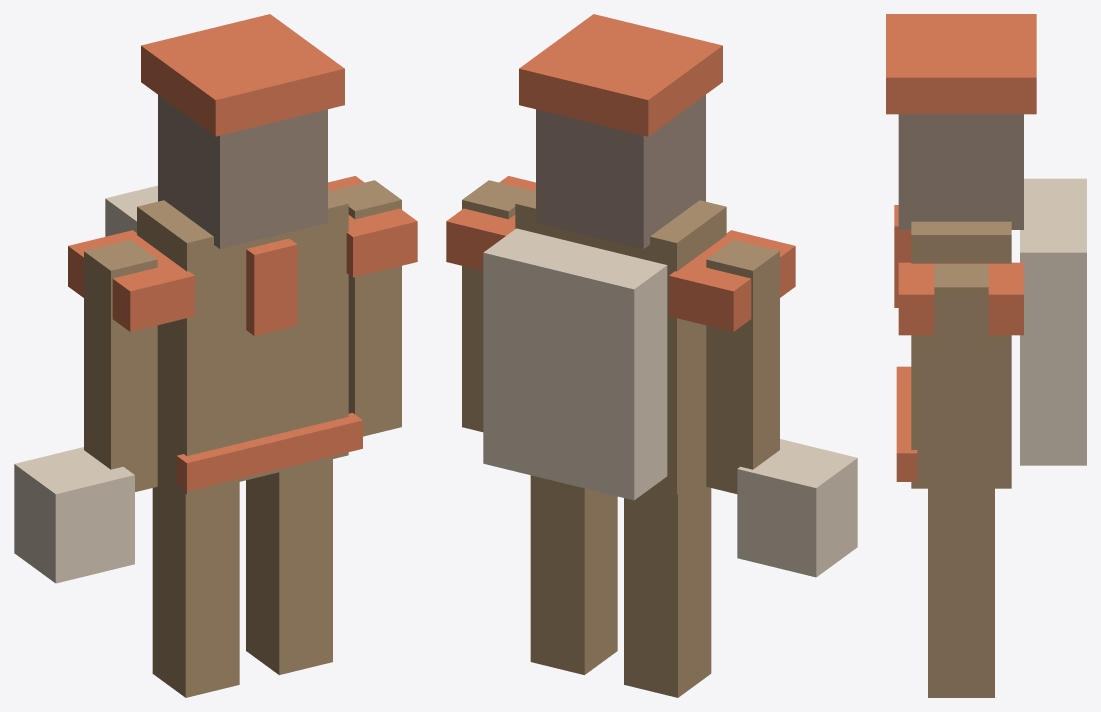
Rendered from 02_vale_signalborn_responder_from_forkkeeper.glb.
3 renders of one model, left to right at view 1: azimuth 30°, elevation 25°; view 2: azimuth 150°, elevation 25°; view 3: azimuth 270°, elevation 25°, orthographic.
Visible parts, largest first — view 1: Vale Signalborn, Responder from Forkkeeper; view 2: Vale Signalborn, Responder from Forkkeeper; view 3: Vale Signalborn, Responder from Forkkeeper.
Boxes of the visible parts, <box> form: Vale Signalborn, Responder from Forkkeeper: <box>14,14,417,697</box>; Vale Signalborn, Responder from Forkkeeper: <box>446,14,857,697</box>; Vale Signalborn, Responder from Forkkeeper: <box>886,14,1086,697</box>.
Bounding box in the file's own units: 0.9291 × 1.52 × 0.4482.
